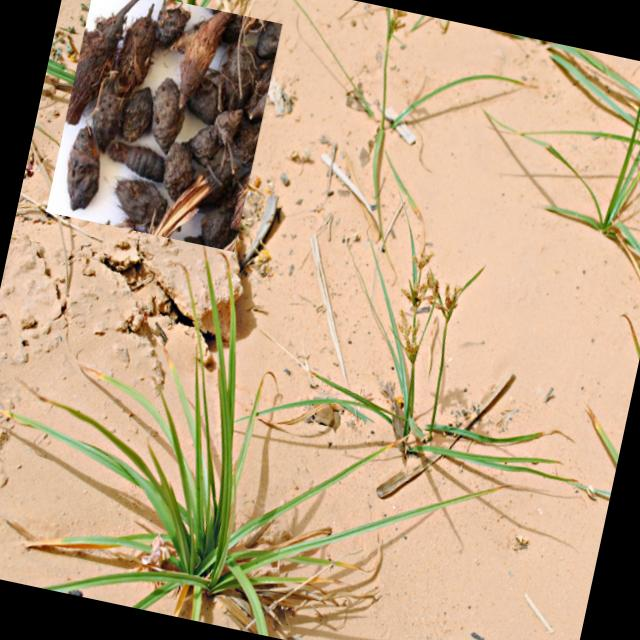cyperus: (388, 242, 472, 370)
